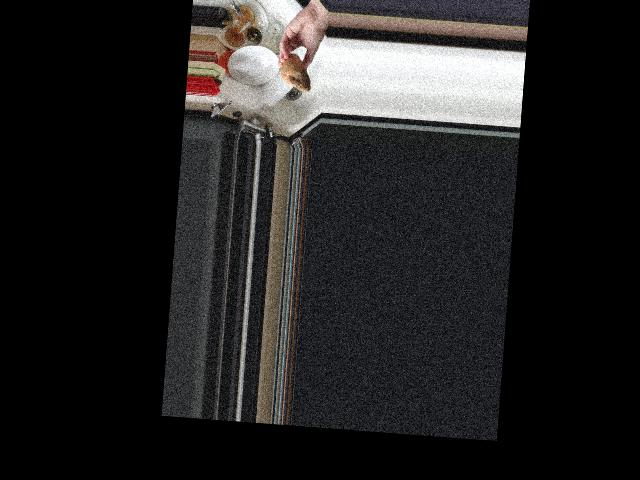sweet_potato: (278, 52, 315, 92)
